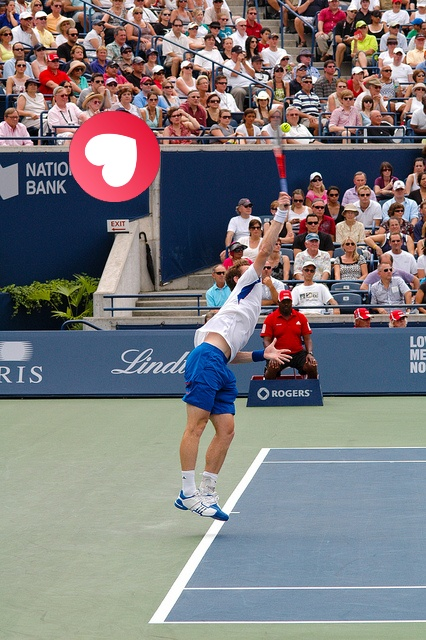love: (69, 111, 160, 202)
